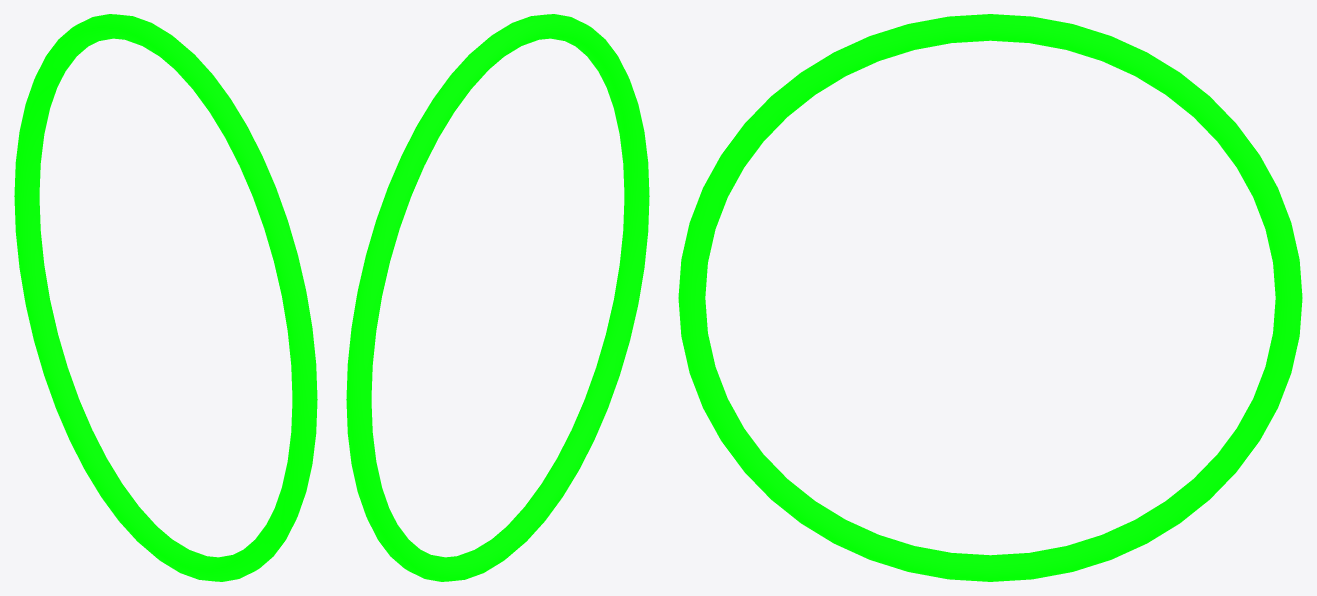
Rendered from handrim.fbx.
3 views of the same model, side by side, from view 1: azimuth 30°, elevation 25°; view 2: azimuth 150°, elevation 25°; view 3: azimuth 270°, elevation 25° (orthographic). The views are drawn at different scales.
Visible parts, largest first — view 1: BézierCircle.003; view 2: BézierCircle.003; view 3: BézierCircle.003.
Boxes of the visible parts, <box> form: BézierCircle.003: <box>14,14,317,581</box>; BézierCircle.003: <box>346,14,649,581</box>; BézierCircle.003: <box>678,14,1302,581</box>.
Size of the model in its own units: 4.5 by 104 by 104.
